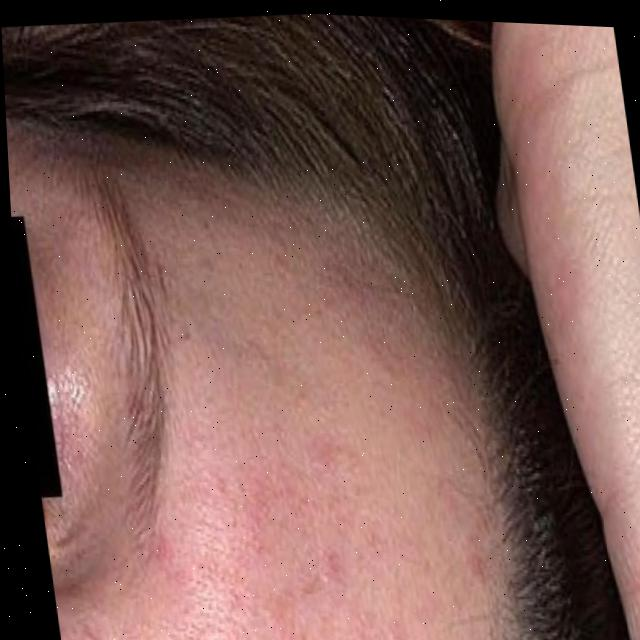Rosacea: (152, 426, 388, 640)
